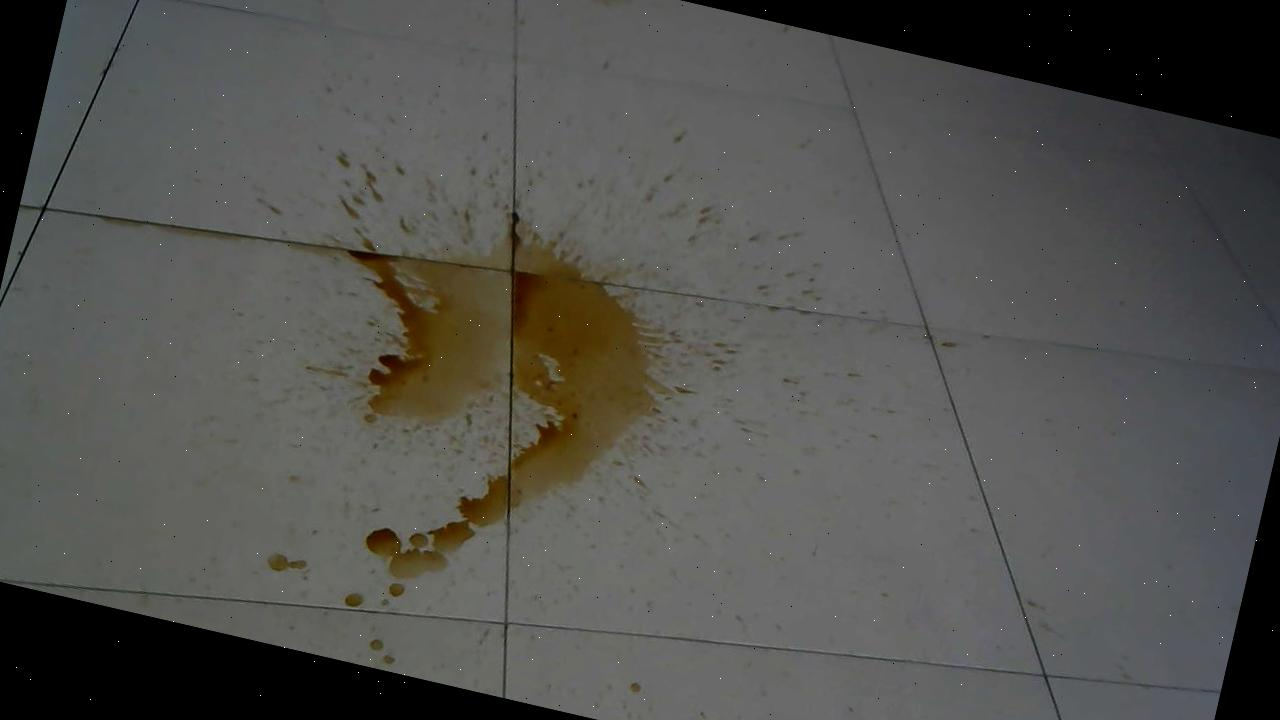dirty_floor: (248, 168, 730, 694)
